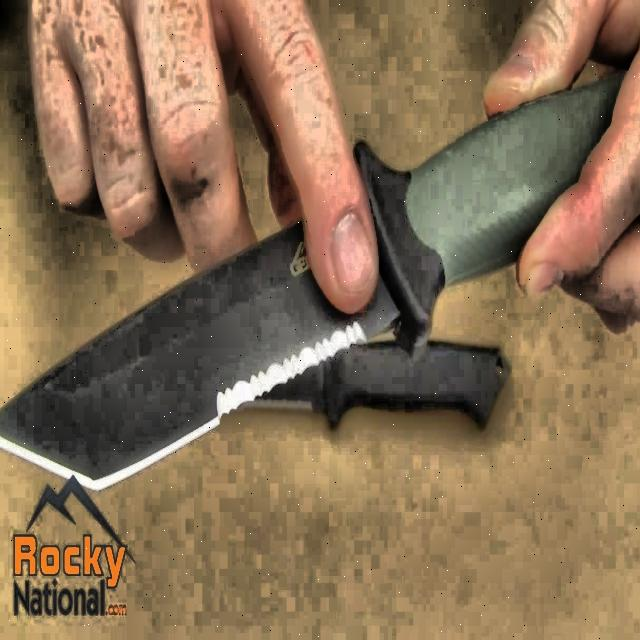knife: (0, 68, 630, 491)
